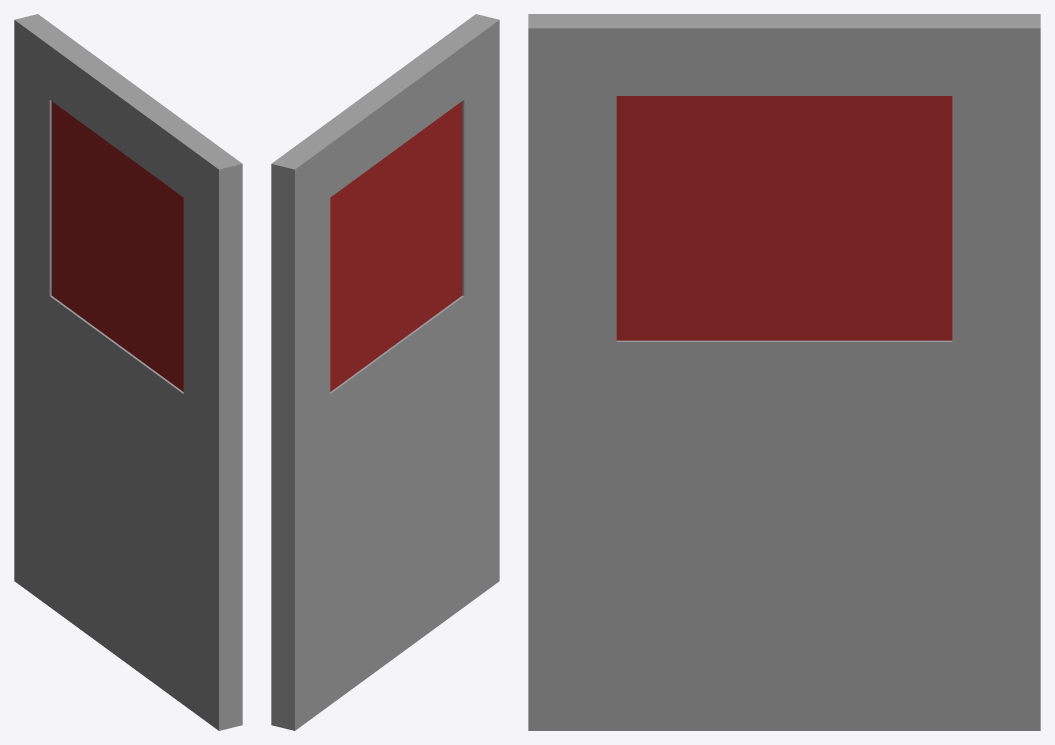
Rendered from Door4.fbx.
3 views of the same model, side by side, from view 1: azimuth 30°, elevation 25°; view 2: azimuth 150°, elevation 25°; view 3: azimuth 270°, elevation 25° (orthographic). The views are drawn at different scales.
Visible parts, largest first — view 1: Door4; view 2: Door4; view 3: Door4.
Part boxes in pixels (x1,y1,x2,y2): Door4: [14, 14, 242, 730]; Door4: [271, 14, 499, 730]; Door4: [528, 14, 1040, 730].
Bounding box in the file's own units: 10.02 × 227 × 150.
